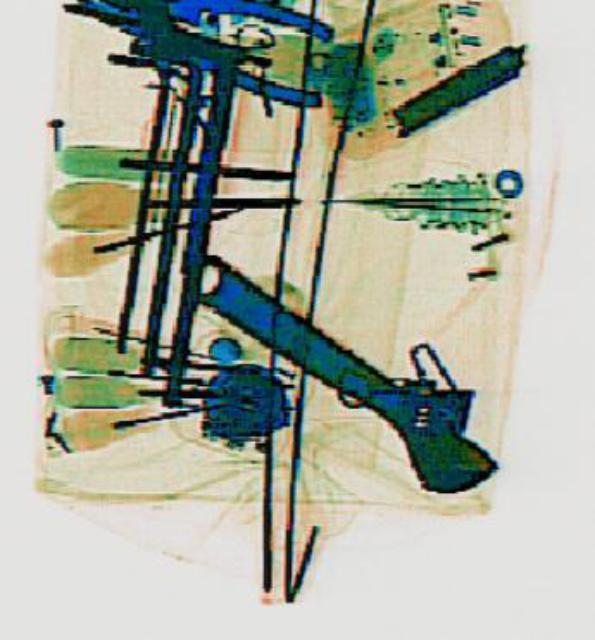Pliers: (75, 0, 332, 106)
Wrench: (155, 212, 524, 516)
